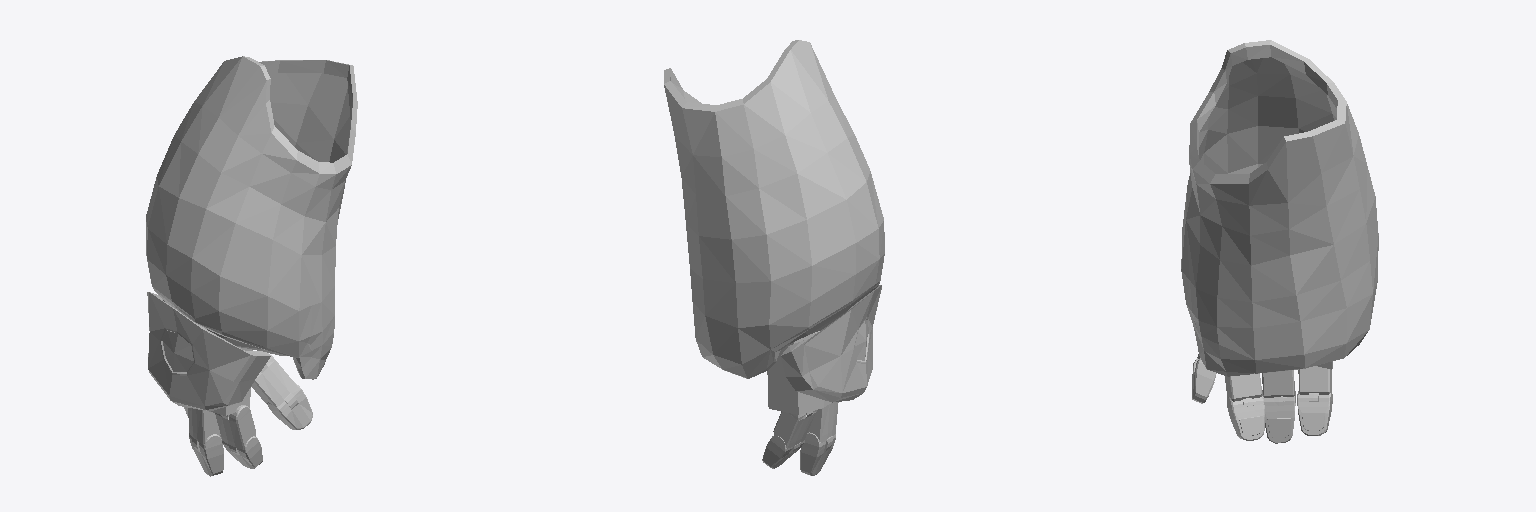
The model's file is Left_downArm-1.obj.
The picture shows the model from 3 angles: view 1: azimuth 30°, elevation 25°; view 2: azimuth 150°, elevation 25°; view 3: azimuth 270°, elevation 25°; orthographic projection.
Visible parts, largest first — view 1: polySurface246; view 2: polySurface246; view 3: polySurface246.
Part boxes in pixels (left/top/right/bottom): polySurface246: left=146, top=56, right=357, bottom=476; polySurface246: left=664, top=40, right=884, bottom=475; polySurface246: left=1181, top=40, right=1378, bottom=443.
Bounding box in the file's own units: 2.4 × 4.72 × 2.03.